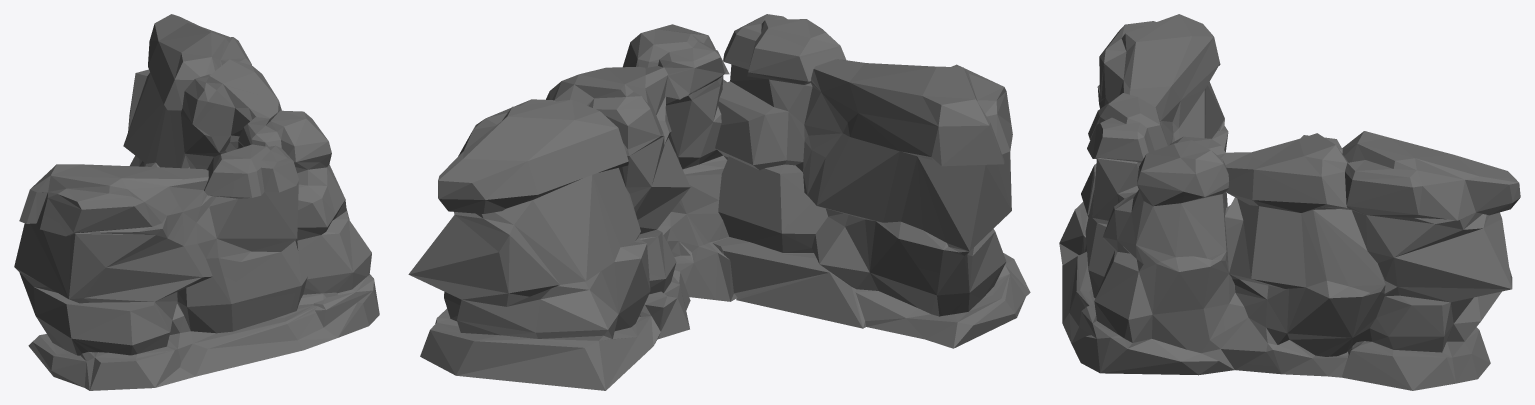
Rendered from rock__rockform_corner_hard_medium.glb.
3 renders of one model, left to right at view 1: azimuth 30°, elevation 25°; view 2: azimuth 150°, elevation 25°; view 3: azimuth 270°, elevation 25°, orthographic. The views are drawn at different scales.
Parts seen in each view (by area): view 1: rockform.corner.hard.medium; view 2: rockform.corner.hard.medium; view 3: rockform.corner.hard.medium.
Part boxes in pixels (box(x1,y1,x2,y2)): rockform.corner.hard.medium: box(14, 14, 379, 390); rockform.corner.hard.medium: box(408, 14, 1030, 390); rockform.corner.hard.medium: box(1059, 14, 1520, 390).
Bounding box in the file's own units: 30.34 × 15.39 × 31.3.
Materials: 1 (1 with a texture image).
